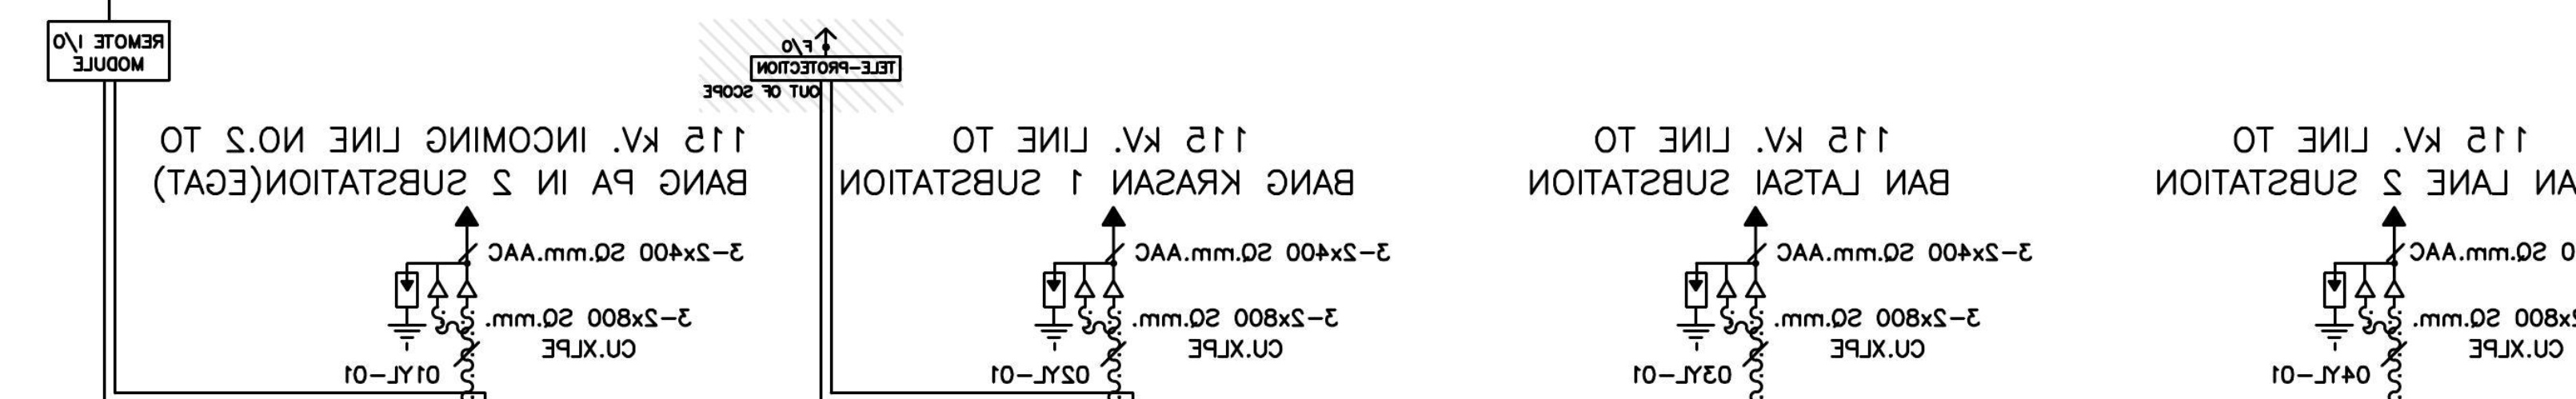115_la: (1676, 271, 1717, 353), (1033, 271, 1074, 353), (386, 271, 427, 353), (2313, 271, 2354, 351)
remote_io_module: (46, 20, 171, 82)
tele_protection: (749, 54, 902, 82)
terminator_double: (2353, 261, 2407, 299), (1715, 261, 1768, 299), (1073, 261, 1125, 299), (425, 261, 478, 299)
